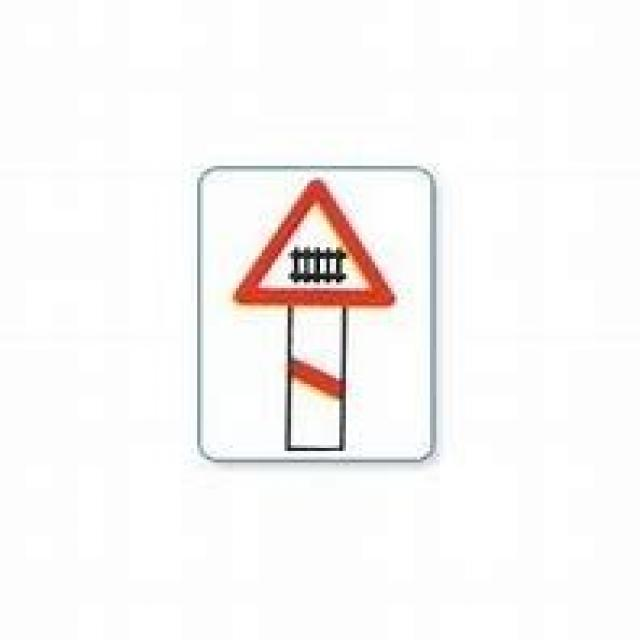GUARDED_LEVEL_CROSSING: (230, 174, 394, 306)
